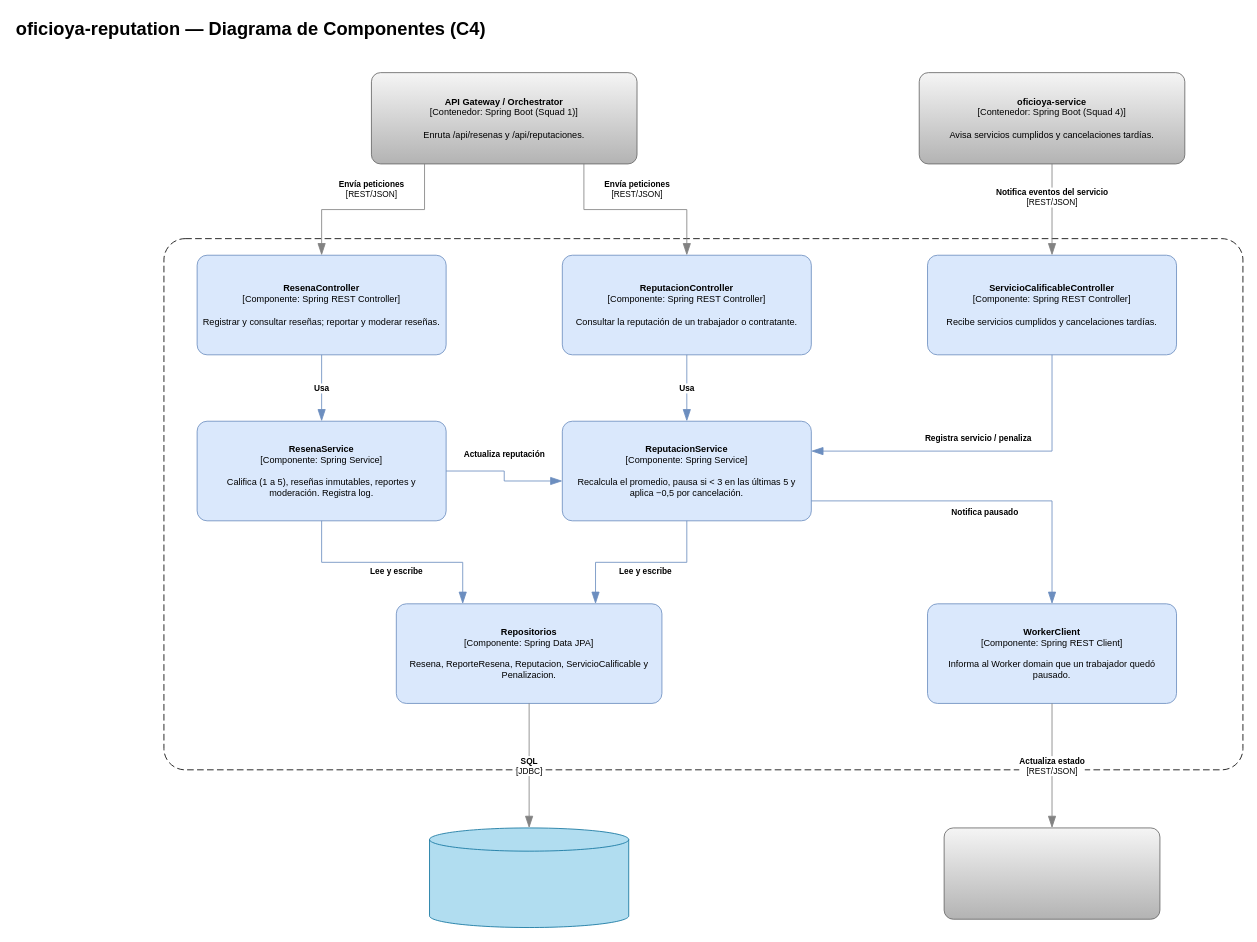
The diagram is 1257 pixels wide and 942 high, and some of its shapes have lost their labels. Here are the shapes that lost their labels. From the top down, the centre of each, then its label:
At [529,877]: "BD Reputation [Contenedor: PostgreSQL]".
At [1051,873]: "oficioya-worker [Contenedor: Spring Boot (Squad 3)]".
